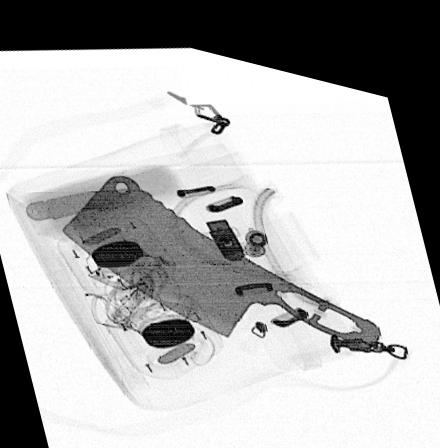Knife: (60, 169, 381, 328)
